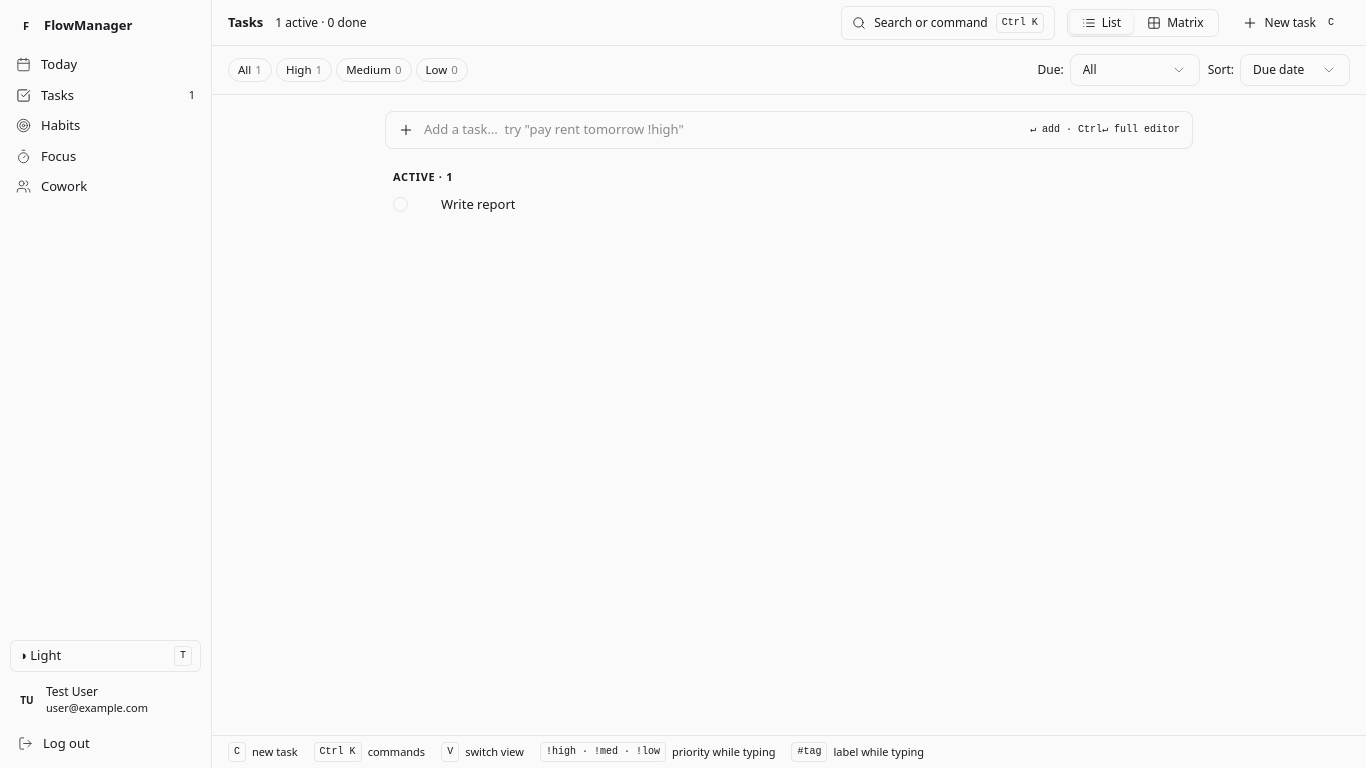
TasksPage › opens the command palette with Ctrl+K and switches views from it
Step 1. Type keys "{Control>}k{/Control}"
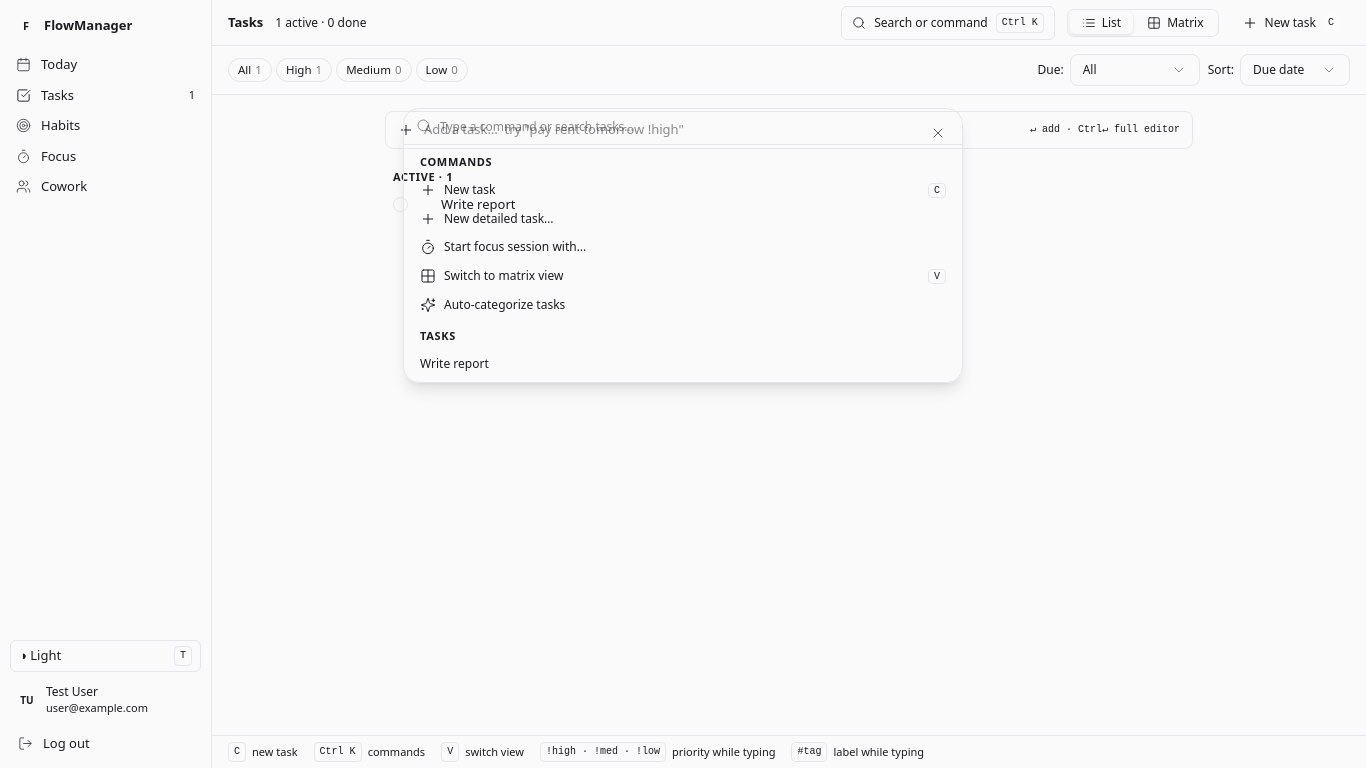
Result: the dropdown with placeholder "Type a command or search tasks…" is shown at [440,108,950,146]
Step 2. Click the option "Switch to matrix view V" → (504, 276), box [420,267,946,284]
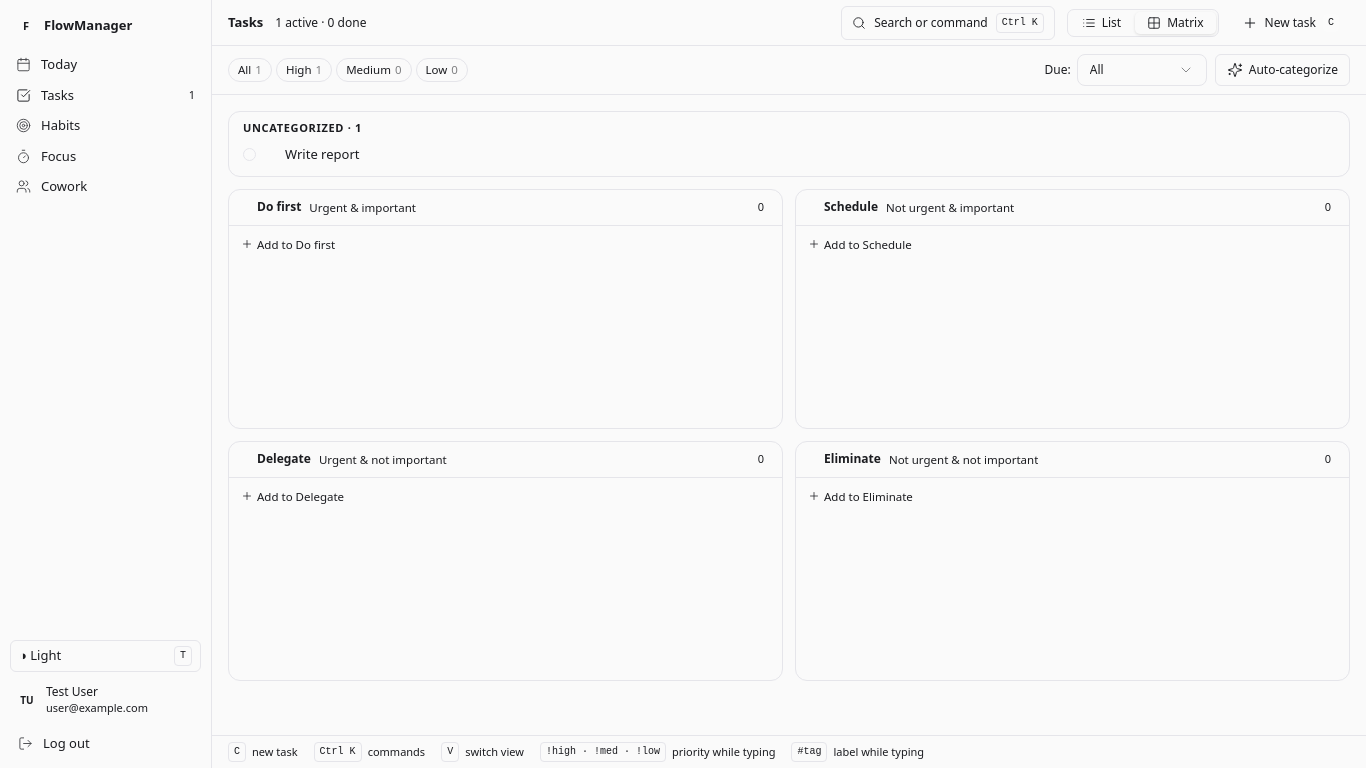
Result: the text "Do first" is shown at [257,199,301,215]
